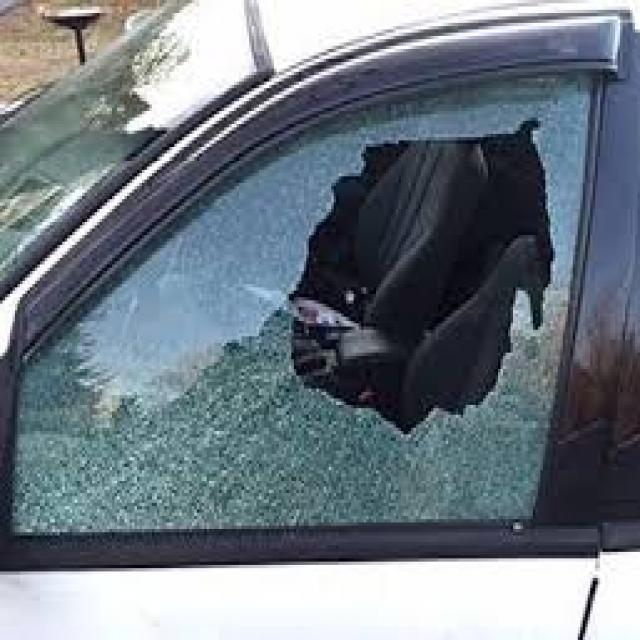damaged-window: (10, 55, 602, 535)
